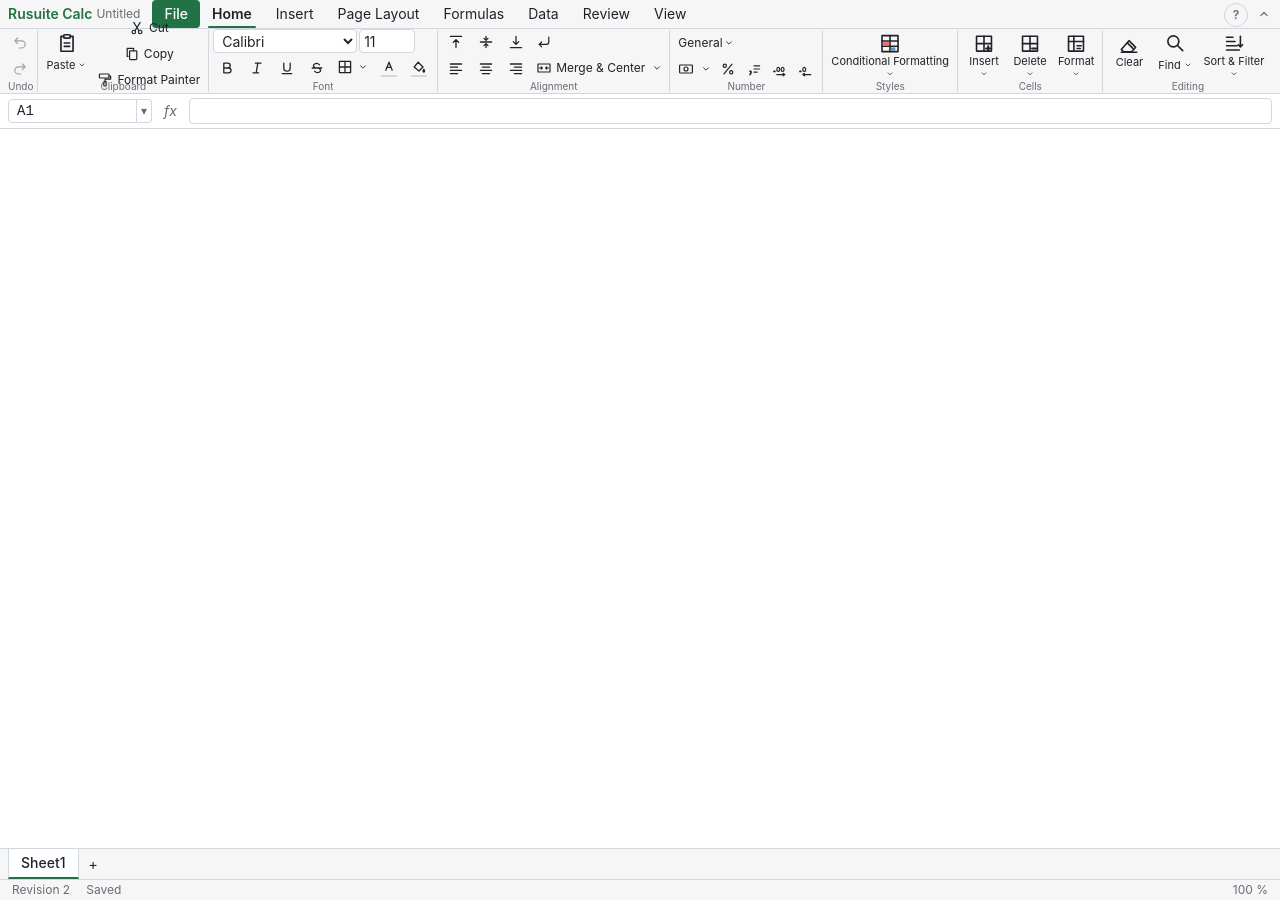
Test: Insert / Delete Cells dialogs › Cancel sends nothing
The width and height of the screenshot is (1280, 900).
Expected: the tab "Sheet1" is shown, [8,849,78,879]
Press - in the table with test id "grid"
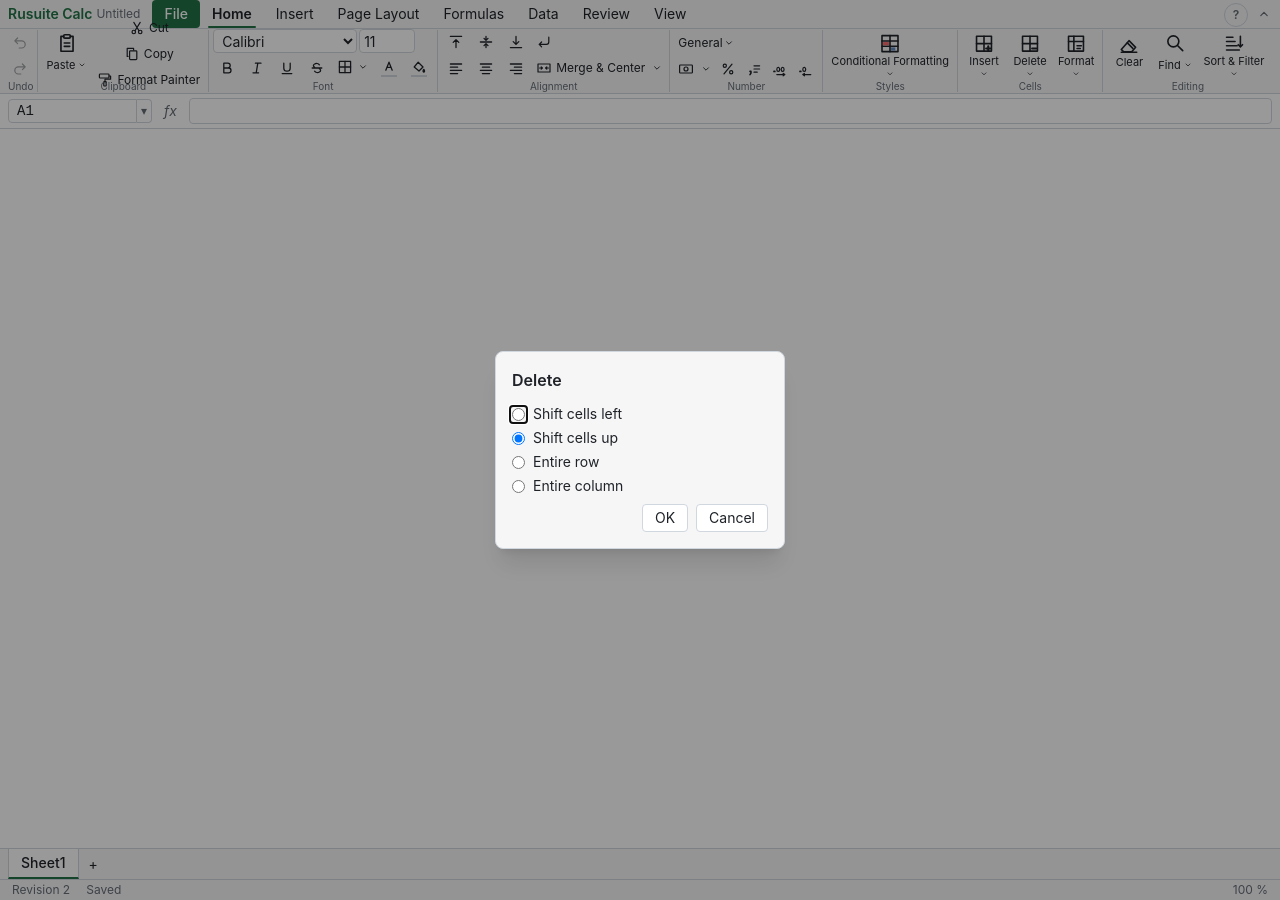
Click the button "Cancel" at (732, 518), box [696,504,768,532]
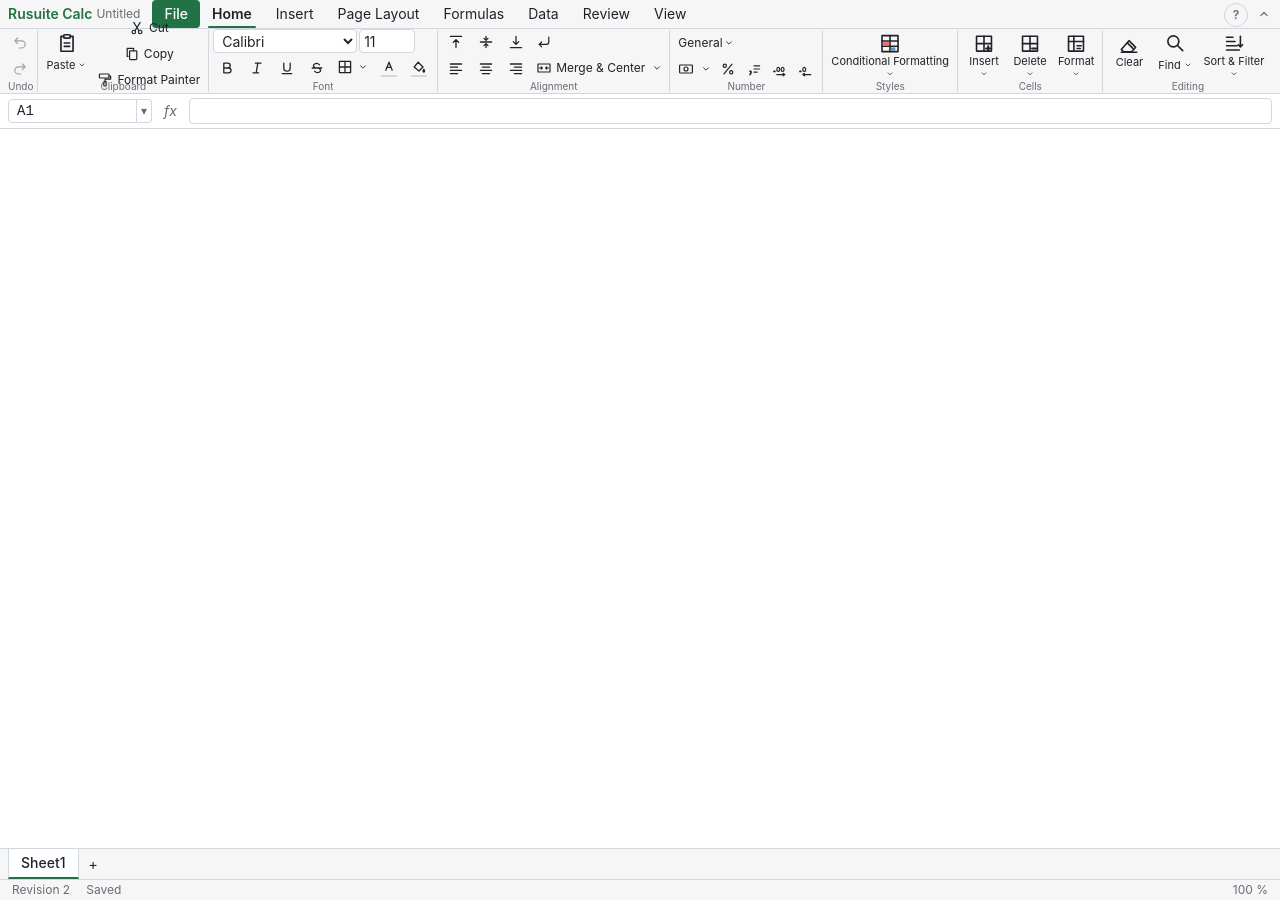
Expected: the dialog is gone
